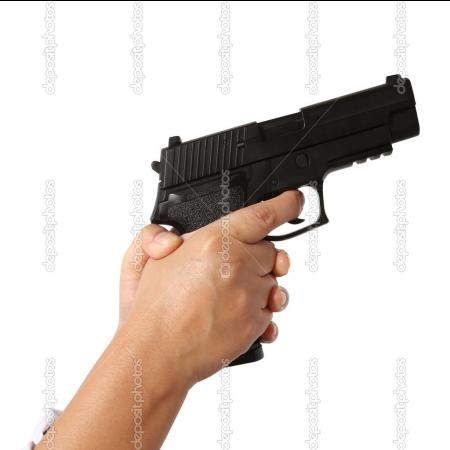Pistol: (144, 61, 430, 400)
